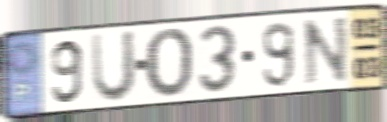3: (196, 23, 240, 95)
9: (261, 20, 296, 88), (50, 39, 84, 105)
N: (300, 13, 350, 88)
O: (142, 26, 196, 101)
U: (89, 27, 139, 105)
